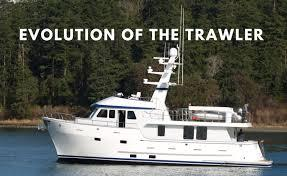Ship: (39, 46, 277, 173)
